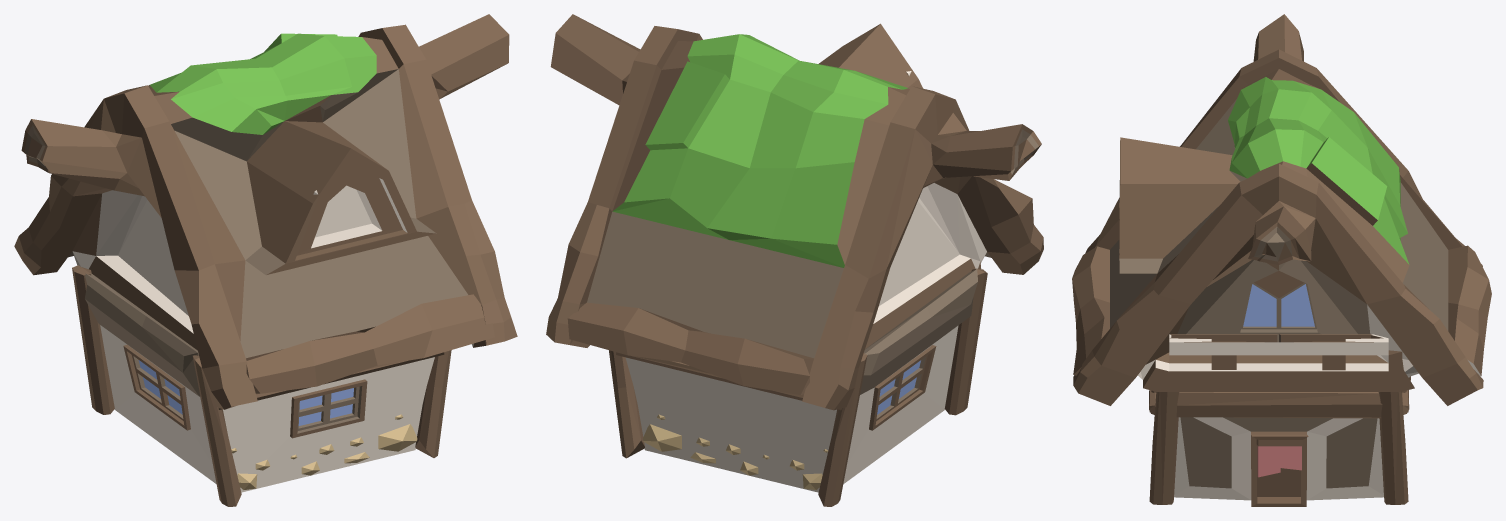
The model's file is _ouse2.fbx.
3 renders of one model, left to right at view 1: azimuth 30°, elevation 25°; view 2: azimuth 150°, elevation 25°; view 3: azimuth 270°, elevation 25°, orthographic. The views are drawn at different scales.
Parts seen in each view (by area): view 1: house; view 2: house; view 3: house.
Boxes of the visible parts, x1,y1,x2,y2 form: house: [14, 14, 517, 506]; house: [546, 14, 1043, 506]; house: [1072, 14, 1491, 506].
Bounding box in the file's own units: 805 × 632 × 678.
